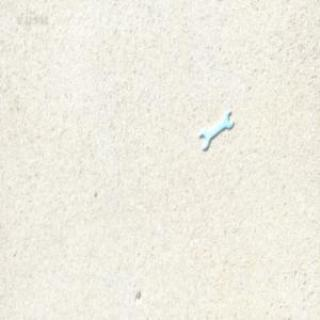Wrenchtrack_idkeyframe: (198, 112, 231, 150)
